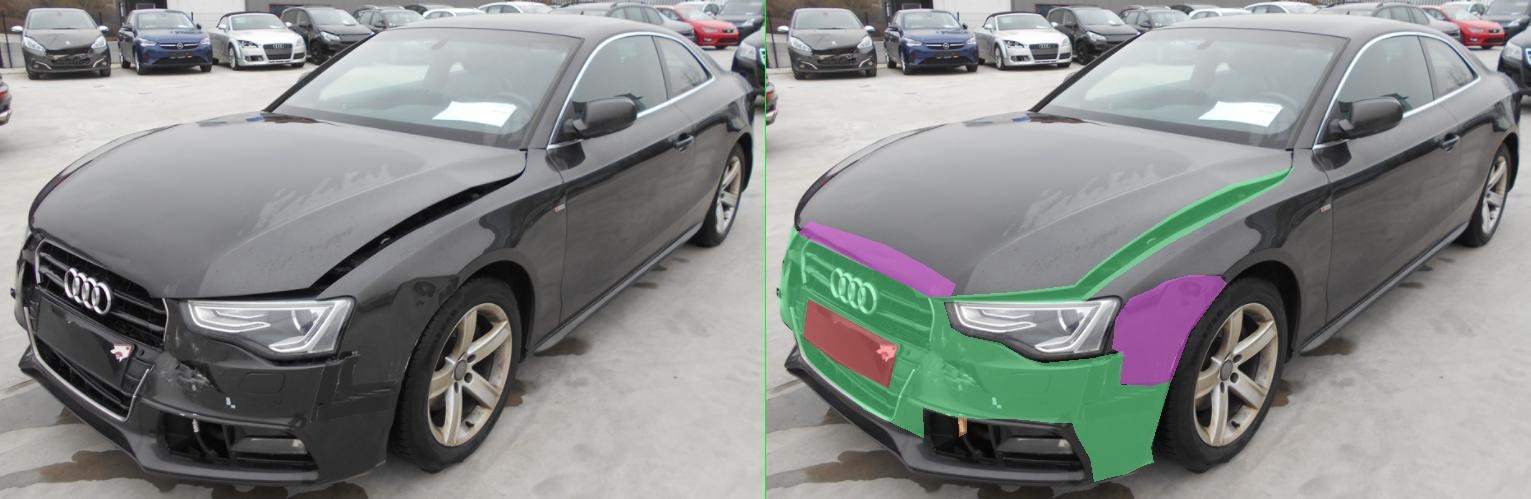Broken part: (24, 227, 809, 481), (332, 167, 1057, 302)
Dent: (692, 275, 921, 385), (64, 221, 378, 296), (288, 374, 324, 400)
Missing part: (74, 299, 262, 387)
Paint chip: (384, 410, 400, 436), (450, 396, 470, 408)
Scratch: (320, 361, 422, 394), (773, 332, 839, 382), (348, 323, 366, 345), (380, 344, 398, 362)
